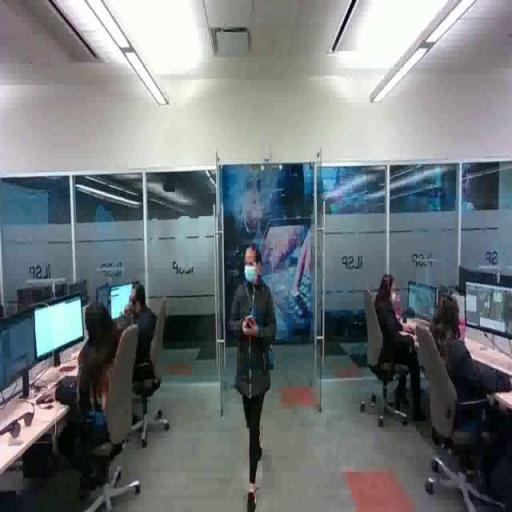person: (231, 246, 277, 511), (234, 242, 279, 512), (47, 304, 122, 458), (431, 296, 512, 403), (376, 276, 427, 423), (126, 285, 158, 372)
